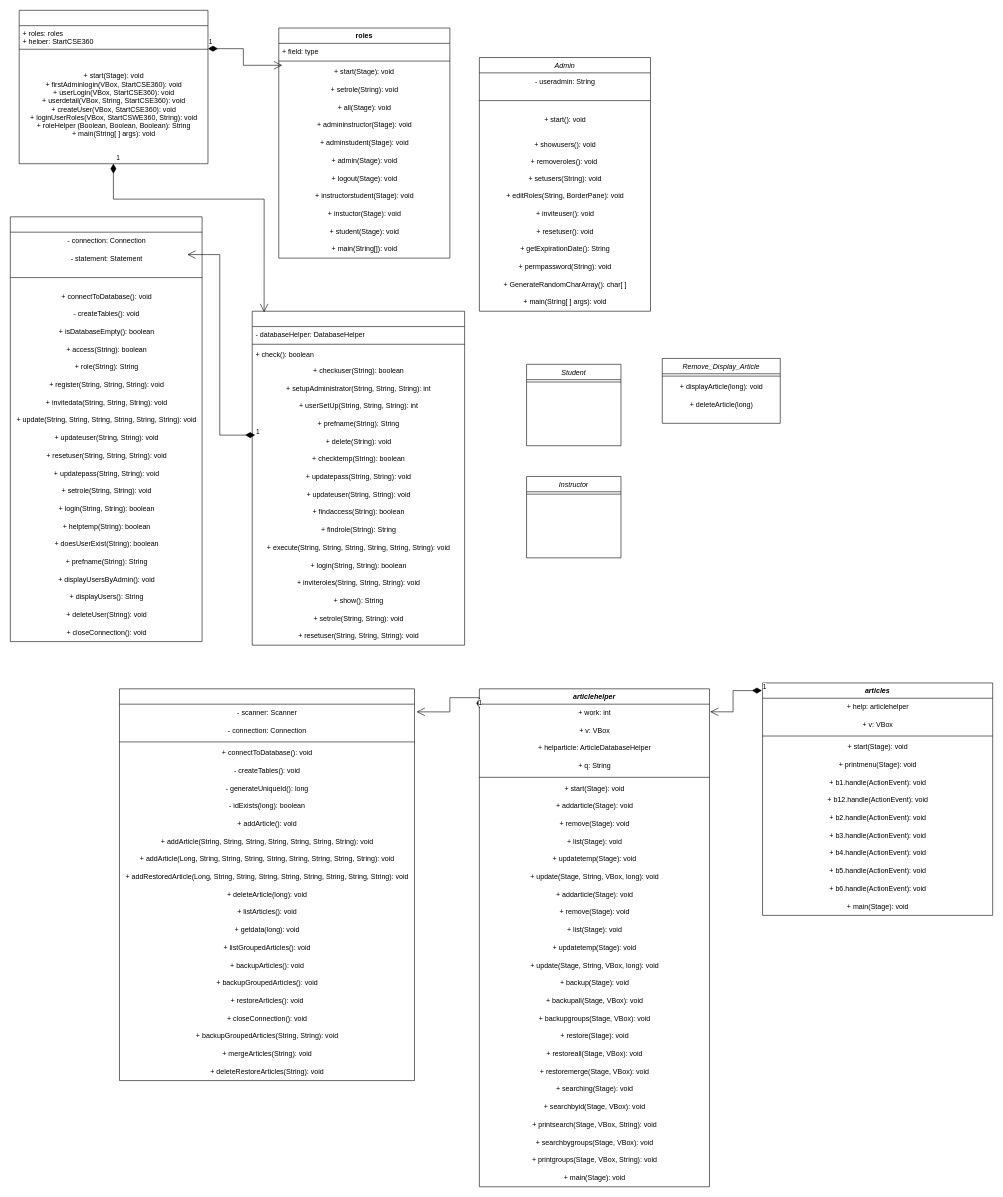
This 1003x1197 diagram has some shape labels left out. The shapes that lost their labels are listed below. From the top down, each one's box as (x1, y1, x2, y2) in pixels, then its label:
(19, 10, 208, 164): Home
(10, 216, 202, 642): DatabaseHelper
(252, 311, 465, 645): StartCSE360
(119, 688, 414, 1081): ArticleDatabaseHelper
